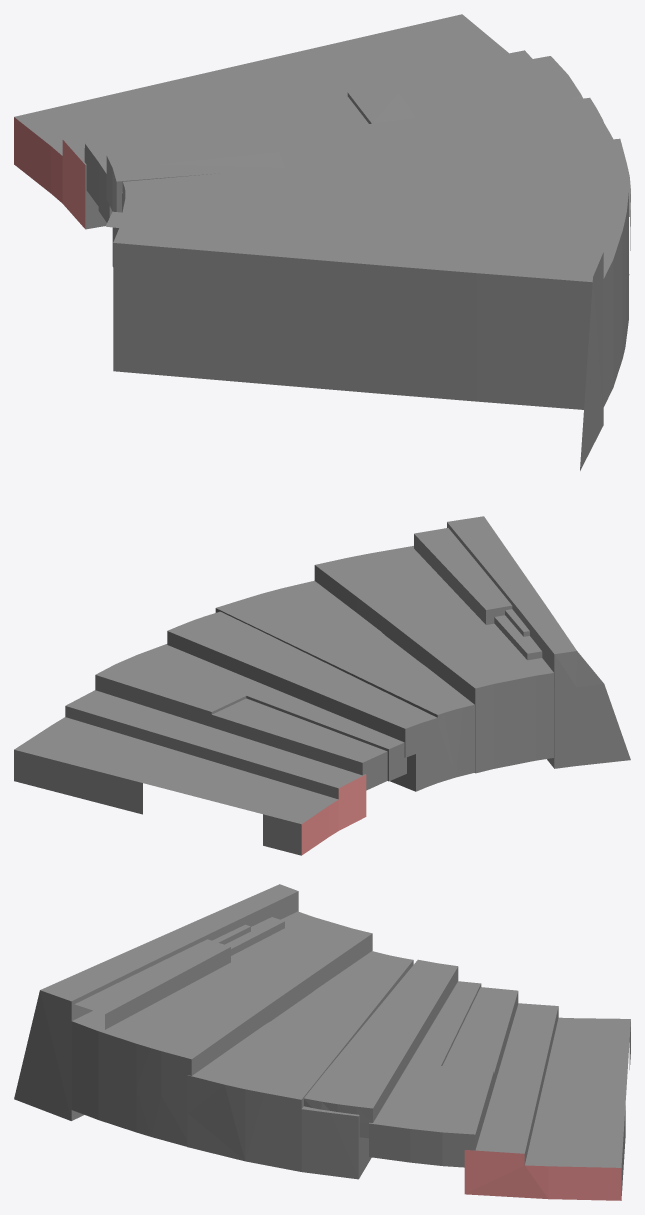
Rendered from S_Envi_Train_Building_Merge_13b.gltf.
The picture shows the model from 3 angles, top to bottom: view 1: azimuth 30°, elevation 25°; view 2: azimuth 150°, elevation 25°; view 3: azimuth 270°, elevation 25°; orthographic projection. The views are drawn at different scales.
Parts seen in each view (by area): view 1: S_Envi_Train_Building_Merge_13b; view 2: S_Envi_Train_Building_Merge_13b; view 3: S_Envi_Train_Building_Merge_13b.
Boxes of the visible parts, x1,y1,x2,y2 form: S_Envi_Train_Building_Merge_13b: (14, 14, 630, 470); S_Envi_Train_Building_Merge_13b: (14, 516, 630, 855); S_Envi_Train_Building_Merge_13b: (14, 884, 630, 1200).
Bounding box in the file's own units: 8.95 × 2.26 × 10.54.
